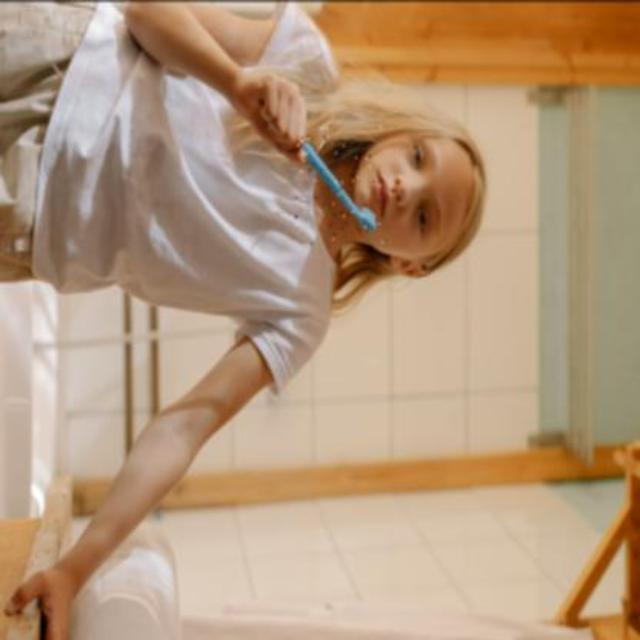toothbrush: (296, 125, 384, 245)
